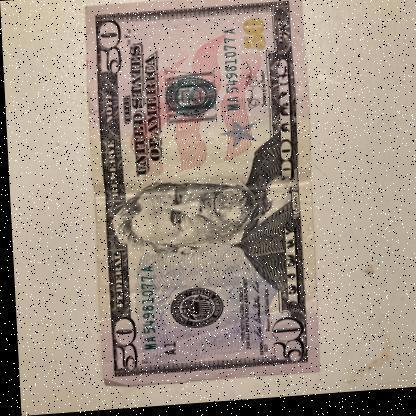dollar_front: (82, 0, 320, 389)
